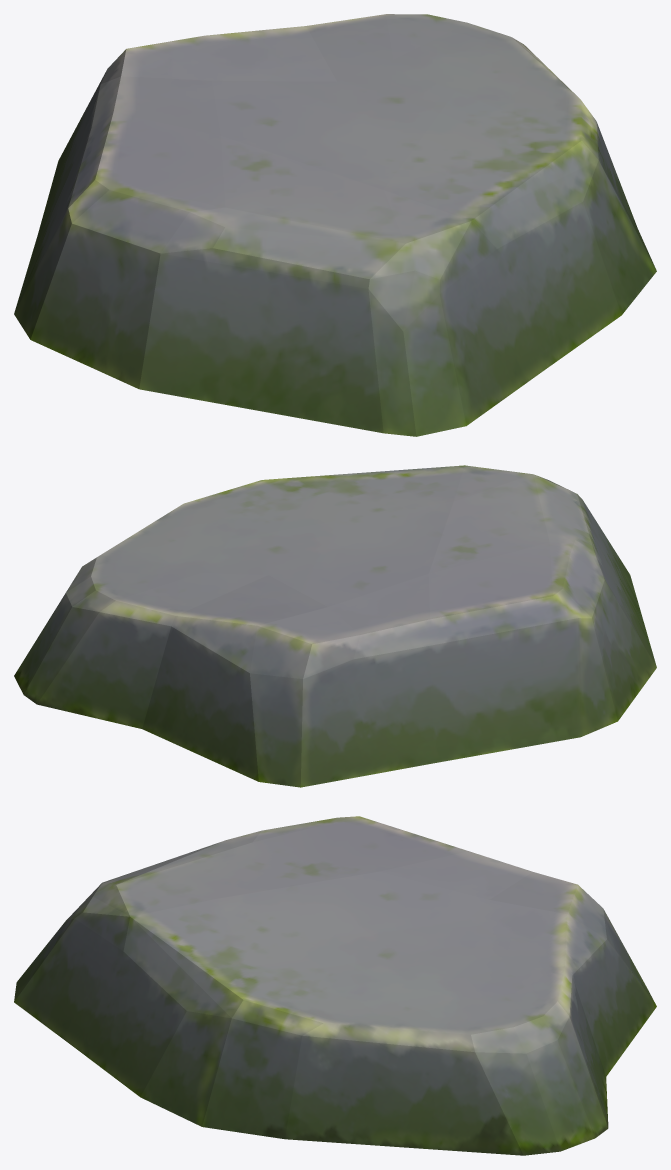
File: Pebble_Round_3.glb
3 views of the same model, one above another, from view 1: azimuth 30°, elevation 25°; view 2: azimuth 150°, elevation 25°; view 3: azimuth 270°, elevation 25° (orthographic). The views are drawn at different scales.
Visible parts, largest first — view 1: Pebble_Round_3; view 2: Pebble_Round_3; view 3: Pebble_Round_3.
Boxes of the visible parts, x1,y1,x2,y2 form: Pebble_Round_3: (14,14,656,436); Pebble_Round_3: (14,465,656,787); Pebble_Round_3: (14,816,656,1155).
Size of the model in its own units: 0.4497 by 0.0986 by 0.4848.
Materials: 1 (1 with a texture image).
